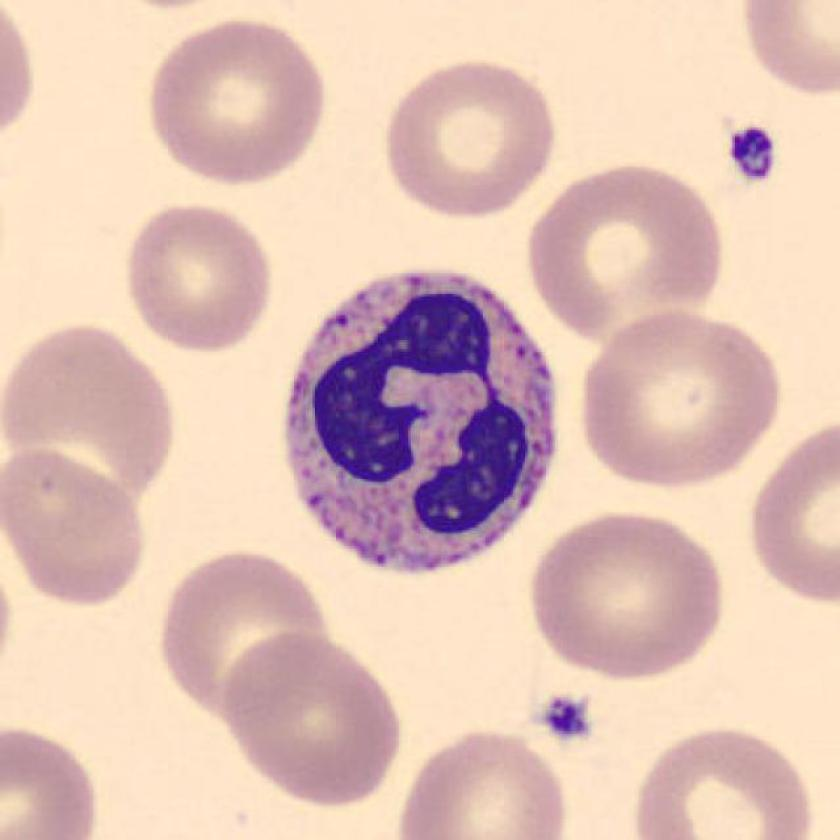neutrophil: (288, 272, 555, 570)
